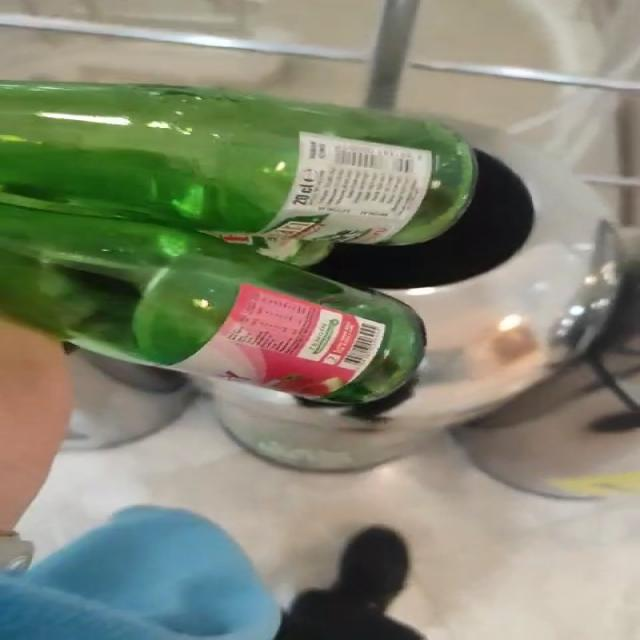glass: (3, 82, 476, 404)
